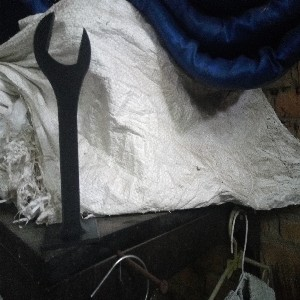spanner: (32, 12, 101, 252)
